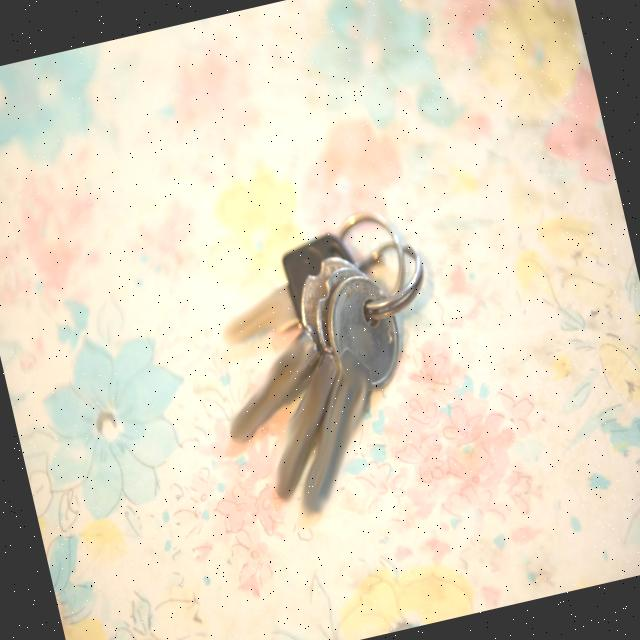Frontdoor keys: (197, 266, 442, 532)
